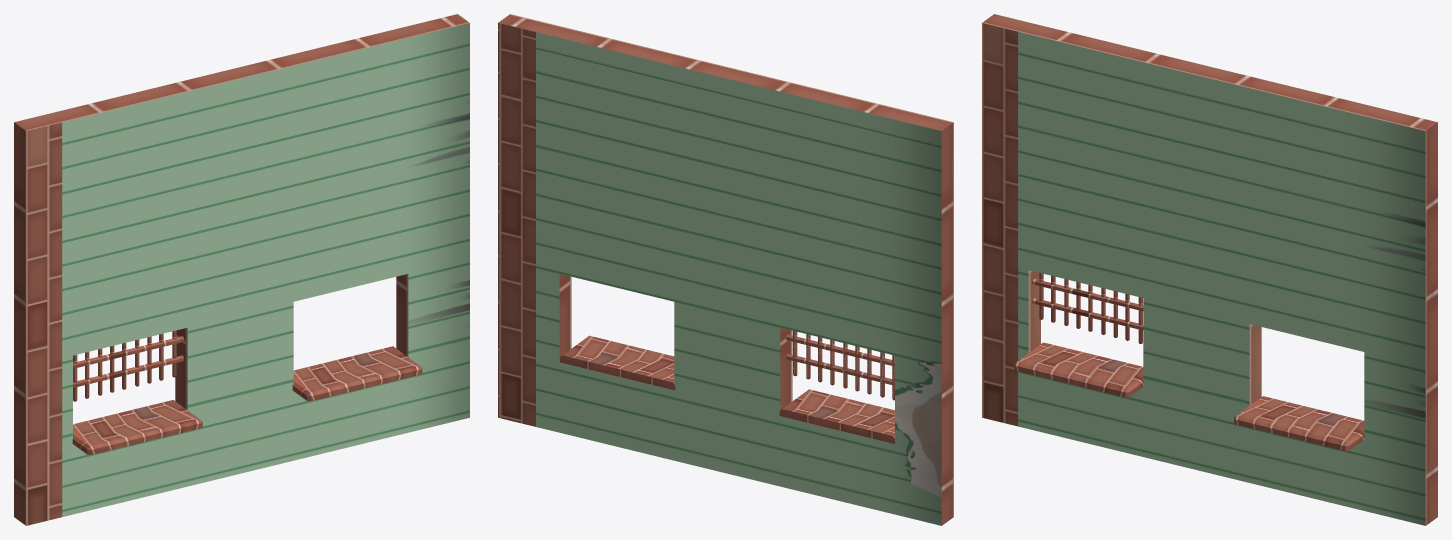
File: lostWall.fbx
3 renders of one model, left to right at view 1: azimuth 30°, elevation 25°; view 2: azimuth 150°, elevation 25°; view 3: azimuth 330°, elevation 25°, orthographic.
Parts seen in each view (by area): view 1: lostWall; view 2: lostWall; view 3: lostWall.
Part boxes in pixels (bbox=[...]): lostWall: bbox=[14, 14, 469, 525]; lostWall: bbox=[498, 14, 953, 525]; lostWall: bbox=[982, 14, 1437, 525].
Size of the model in its own units: 529 by 450 by 58.45.
Materials: 1 (1 with a texture image).
